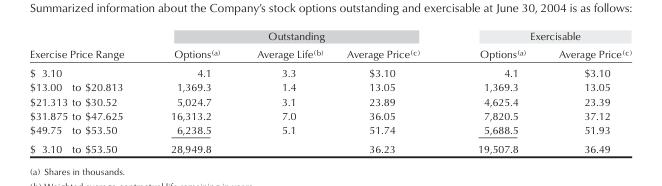table: (29, 29, 631, 154)
table column: (29, 29, 146, 154), (334, 29, 448, 154), (237, 29, 334, 154), (448, 29, 541, 154), (146, 29, 237, 154), (541, 29, 631, 154)
table column header: (29, 29, 631, 63)
table row: (29, 44, 631, 63), (29, 63, 631, 79), (29, 122, 631, 138), (29, 138, 631, 154), (29, 29, 631, 44), (29, 93, 631, 108), (29, 79, 631, 93), (29, 108, 631, 122)
table spanning cell: (146, 29, 448, 44), (29, 29, 146, 63), (448, 29, 631, 44)
